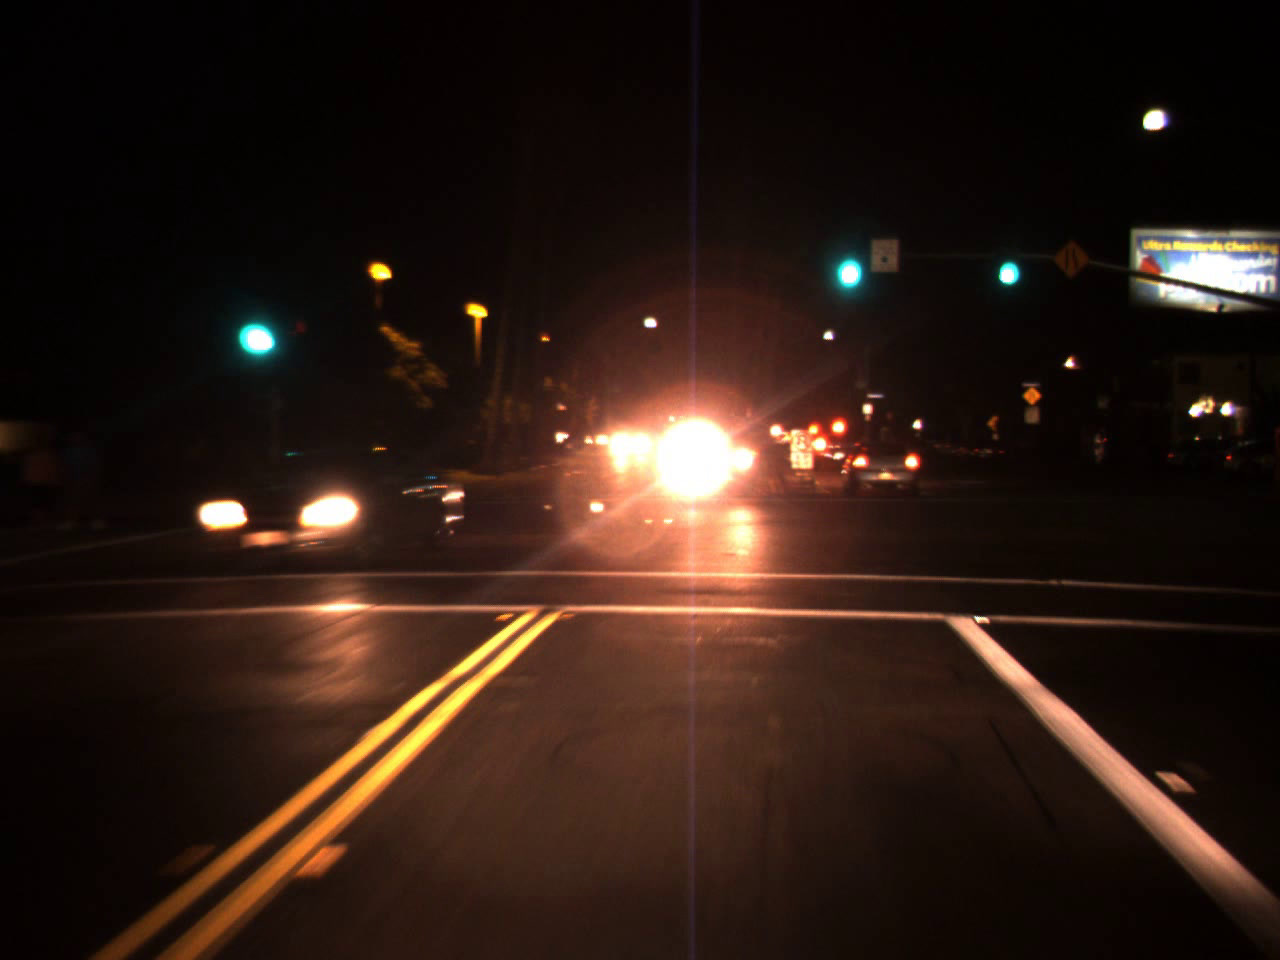go: (230, 285, 280, 366), (826, 219, 867, 301), (991, 234, 1023, 294)
